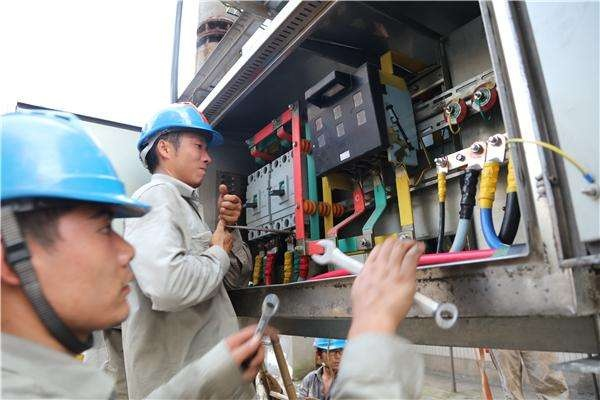blue: (8, 109, 136, 339), (139, 103, 218, 187)
